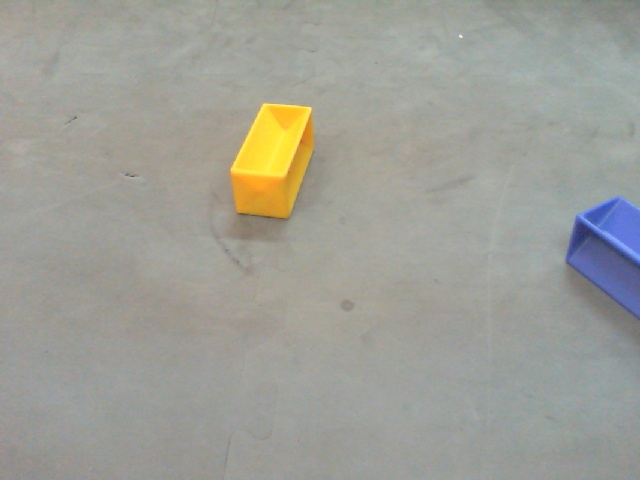BlueSample: (565, 189, 640, 327)
YellowSample: (227, 101, 319, 222)
